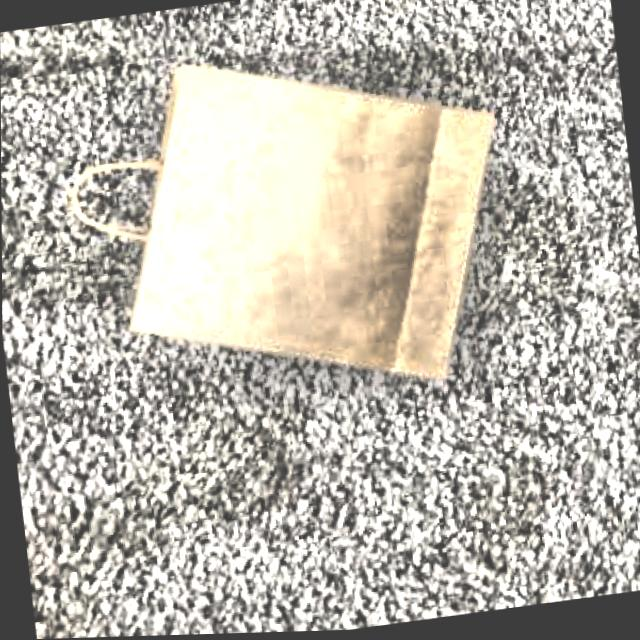Paper-bag: (33, 11, 535, 462)
